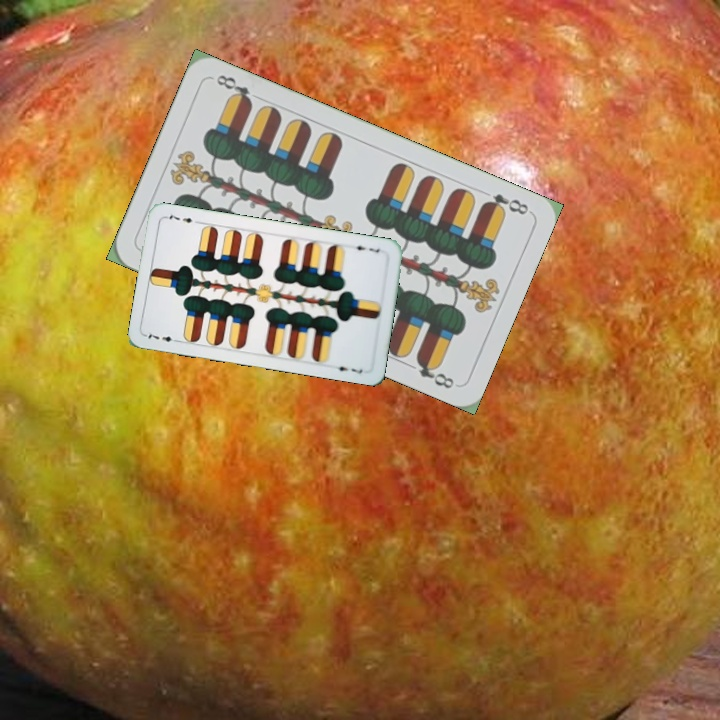E7: (142, 328, 183, 345), (348, 241, 382, 255)
E8: (478, 189, 531, 218)
